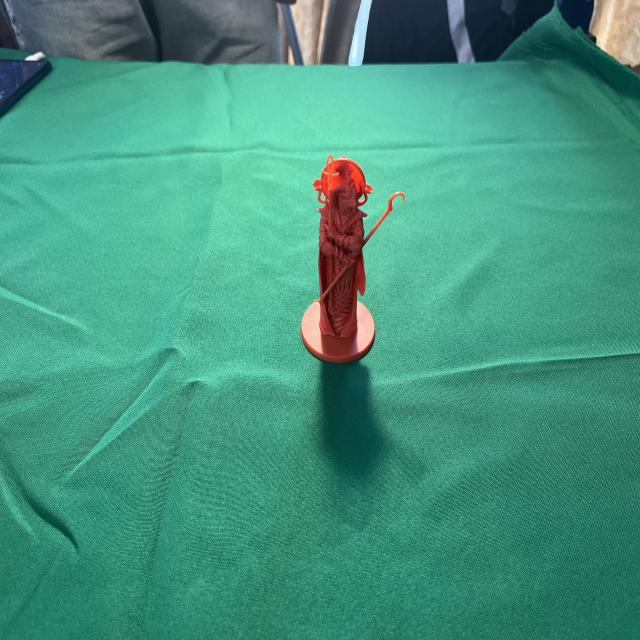amon: (299, 150, 407, 367)
